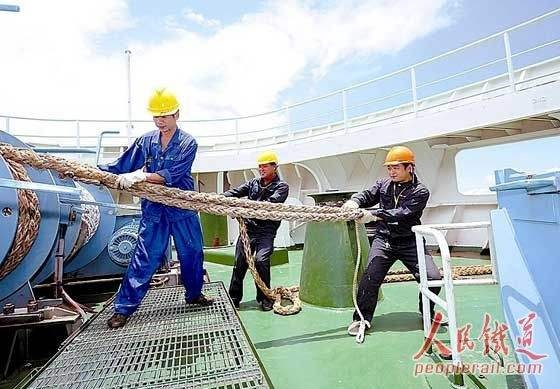yellow: (143, 86, 183, 133), (382, 144, 417, 185), (254, 149, 281, 182)
